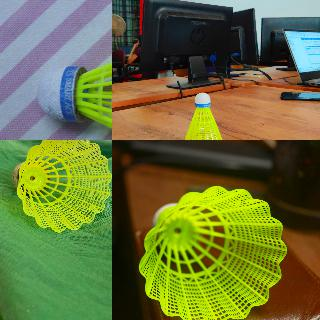shuttlecock: (139, 184, 288, 319), (11, 140, 111, 233), (37, 28, 111, 139), (184, 92, 222, 139)
